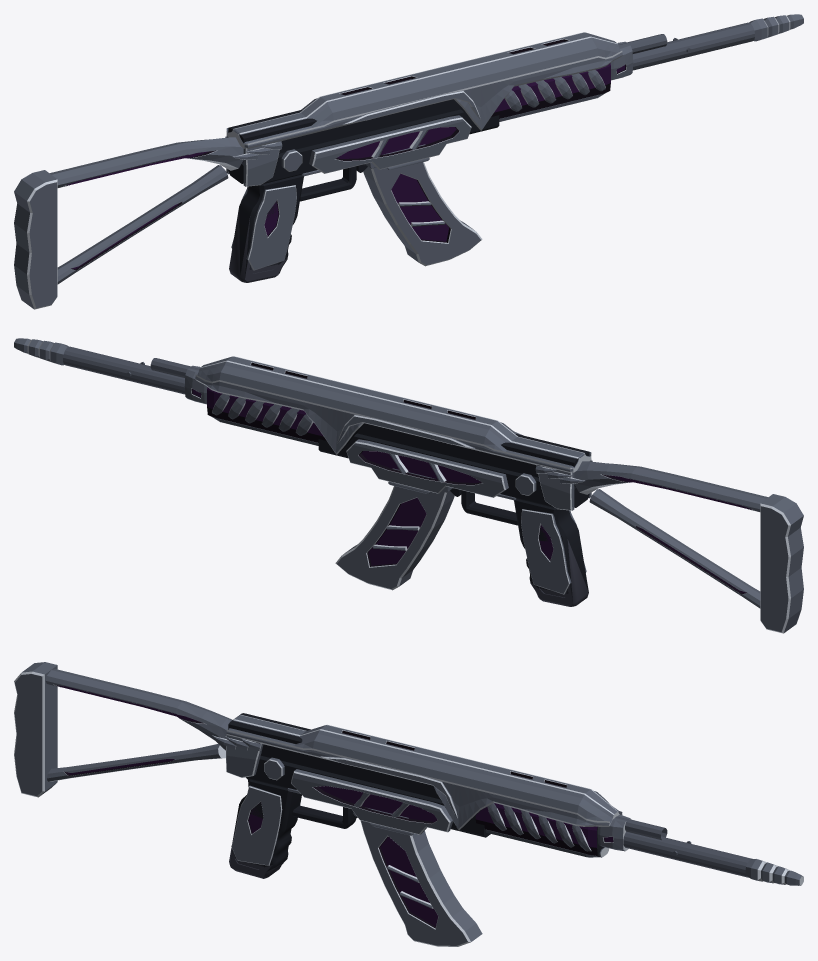
Rendered from Vandal_Moltframe_Shell_v04.fbx.
The picture shows the model from 3 angles, top to bottom: view 1: azimuth 30°, elevation 25°; view 2: azimuth 150°, elevation 25°; view 3: azimuth 330°, elevation 25°; orthographic projection.
Parts seen in each view (by area): view 1: MF4_UpperShell, MF4_Magazine, MF4_Butt, MF4_ReceiverCore, MF4_Carapace, Moltframe_GripHardware, MF4_StockTop, MF4_GripPlate, MF4_StockLow, MF4_Barrel, MF4_ForendFluid, MF4_Ribs (+4 smaller); view 2: MF4_UpperShell, MF4_Magazine, MF4_Butt, MF4_ReceiverCore, MF4_Carapace, Moltframe_GripHardware, MF4_StockTop, MF4_GripPlate, MF4_StockLow, MF4_Barrel, MF4_ForendFluid, MF4_Ribs (+4 smaller); view 3: MF4_UpperShell, MF4_Magazine, MF4_Butt, MF4_ReceiverCore, MF4_Carapace, MF4_StockTop, Moltframe_GripHardware, MF4_GripPlate, MF4_Barrel, MF4_StockLow, MF4_ForendFluid, MF4_Ribs (+4 smaller).
Part boxes in pixels (bbox=[...]): MF4_UpperShell: bbox=[226, 32, 622, 148]; MF4_Magazine: bbox=[363, 162, 482, 266]; MF4_Butt: bbox=[14, 170, 57, 309]; MF4_ReceiverCore: bbox=[228, 99, 499, 185]; MF4_Carapace: bbox=[309, 115, 471, 173]; Moltframe_GripHardware: bbox=[229, 166, 356, 282]; MF4_StockTop: bbox=[49, 137, 243, 187]; MF4_GripPlate: bbox=[231, 185, 296, 270]; MF4_StockLow: bbox=[57, 165, 228, 284]; MF4_Barrel: bbox=[618, 22, 754, 70]; MF4_ForendFluid: bbox=[491, 63, 610, 118]; MF4_Ribs: bbox=[504, 70, 606, 111]; MF4_UpperShell: bbox=[195, 356, 591, 472]; MF4_Magazine: bbox=[335, 486, 454, 590]; MF4_Butt: bbox=[760, 494, 803, 633]; MF4_ReceiverCore: bbox=[318, 423, 589, 509]; MF4_Carapace: bbox=[346, 439, 508, 497]; Moltframe_GripHardware: bbox=[461, 490, 588, 606]; MF4_StockTop: bbox=[574, 461, 768, 511]; MF4_GripPlate: bbox=[521, 509, 586, 594]; MF4_StockLow: bbox=[589, 489, 760, 608]; MF4_Barrel: bbox=[63, 346, 199, 394]; MF4_ForendFluid: bbox=[207, 387, 326, 442]; MF4_Ribs: bbox=[211, 394, 313, 435]; MF4_UpperShell: bbox=[226, 715, 622, 830]; MF4_Magazine: bbox=[360, 820, 482, 946]; MF4_Butt: bbox=[14, 662, 57, 797]; MF4_ReceiverCore: bbox=[228, 713, 490, 837]; MF4_Carapace: bbox=[291, 769, 452, 834]; MF4_StockTop: bbox=[45, 669, 232, 750]; Moltframe_GripHardware: bbox=[229, 779, 356, 878]; MF4_GripPlate: bbox=[231, 785, 282, 865]; MF4_Barrel: bbox=[615, 816, 752, 877]; MF4_StockLow: bbox=[47, 744, 225, 781]; MF4_ForendFluid: bbox=[475, 803, 604, 856]; MF4_Ribs: bbox=[487, 803, 601, 857].
Size of the model in its own units: 3.9 by 0.89 by 0.208.
